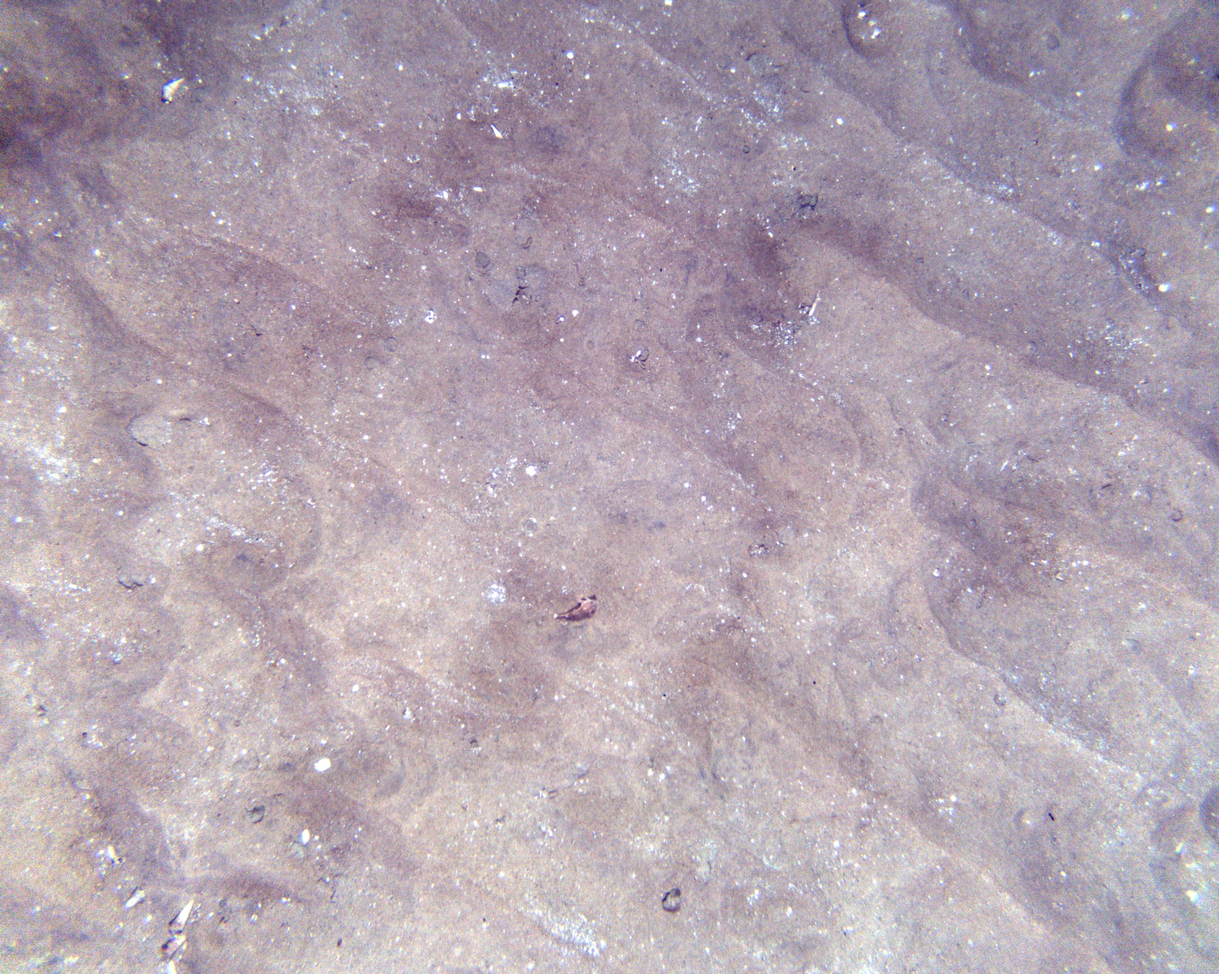Brachionichthyidae: (553, 594, 599, 621)
